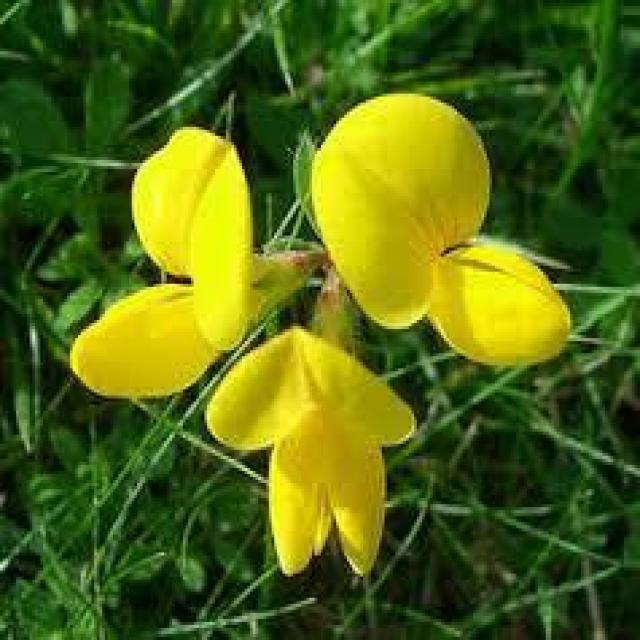organic waste: (297, 94, 582, 378), (234, 273, 414, 581), (50, 243, 340, 397), (125, 119, 324, 328)
